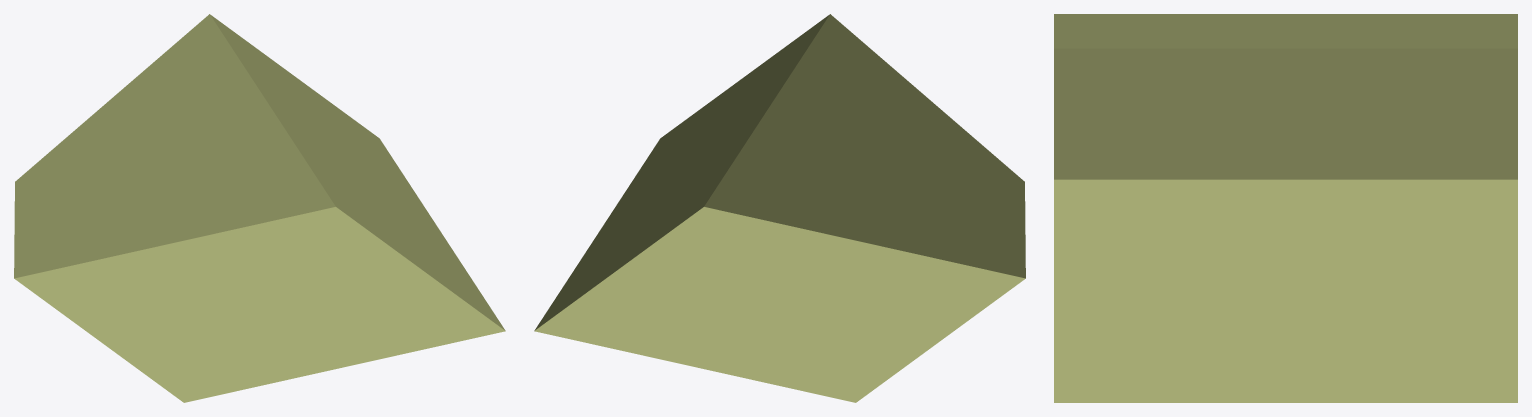
3 renders of one model, left to right at view 1: azimuth 30°, elevation 25°; view 2: azimuth 150°, elevation 25°; view 3: azimuth 270°, elevation 25°, orthographic. The views are drawn at different scales.
Parts seen in each view (by area): view 1: 0_1_2_0_0_2_1_2_2_1_2; view 2: 0_1_2_0_0_2_1_2_2_1_2; view 3: 0_1_2_0_0_2_1_2_2_1_2.
Boxes of the visible parts, x1,y1,x2,y2 form: 0_1_2_0_0_2_1_2_2_1_2: [14, 14, 505, 402]; 0_1_2_0_0_2_1_2_2_1_2: [534, 14, 1025, 402]; 0_1_2_0_0_2_1_2_2_1_2: [1054, 14, 1517, 402].
Bounding box in the file's own units: 9.84 × 6.53 × 9.
